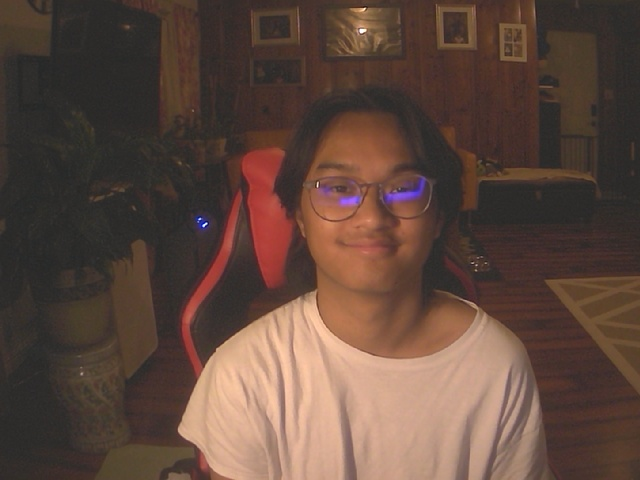happy: (273, 86, 465, 296)
